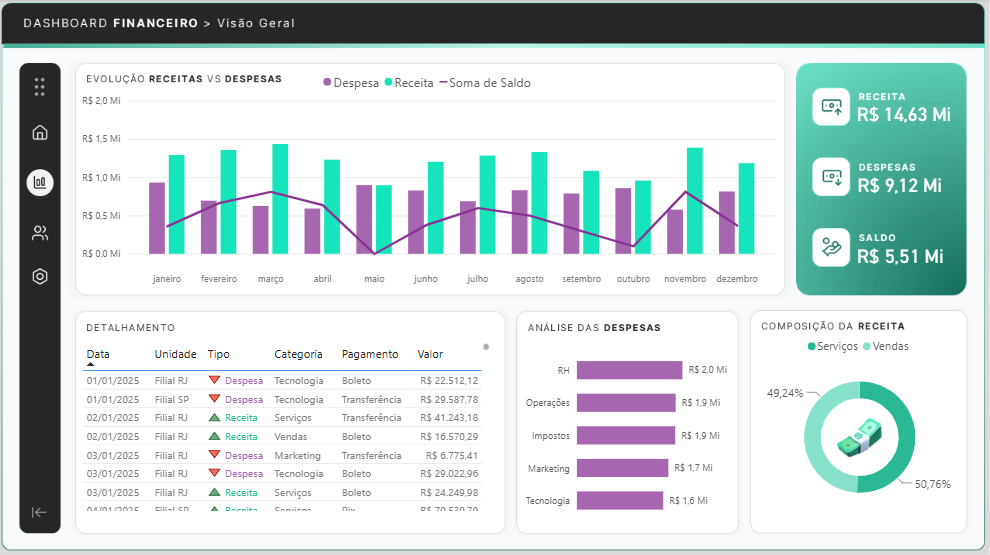

What the dashboard file says about the page in this screenshot:
{"tool":"powerbi","page":{"name":"Página 1","canvas":[1280,720],"ordinal":0},"visuals":[{"type":"lineClusteredColumnComboChart","fields":{"Category":["Extrato.Data.Variation.Hierarquia de datas.Ano","Extrato.Data.Variation.Hierarquia de datas.Trimestre","Extrato.Data.Variation.Hierarquia de datas.Mês","Extrato.Data.Variation.Hierarquia de datas.Dia"],"Y":["Sum(Extrato.Valor)"],"Series":["Extrato.Tipo_Movimentacao"],"Y2":["Sum(Extrato.Saldo)"]},"box":[104.9,85,905.7,293.4],"z":0},{"type":"card","fields":{"Values":["Sum(Extrato.Saldo)"]},"box":[1097,282,137.5,96.4],"z":1000},{"type":"card","fields":{"Values":["Sum(Extrato.Valor)"]},"box":[1097,191,136,98],"z":2000},{"type":"card","fields":{"Values":["Sum(Extrato.Valor)"]},"box":[1097,104,147,87],"z":3000},{"type":"barChart","fields":{"Category":["Extrato.Categoria","Extrato.Subcategoria","Extrato.Fornecedor"],"Y":["Sum(Extrato.Valor)"]},"box":[672.5,437.5,285,245],"z":4000},{"type":"donutChart","fields":{"Y":["Sum(Extrato.Valor)"],"Category":["Extrato.Categoria"]},"box":[982.5,427.5,262.5,245],"z":5000},{"type":"tableEx","fields":{"Values":["Extrato.Data","Extrato.Unidade","Extrato.Tipo_Movimentacao","Extrato.Categoria","Extrato.Forma_Pagamento","Sum(Extrato.Valor)"]},"box":[104.9,438.2,535.8,225.5],"z":6000}]}

Visuals, with their boxes on the page's 1280x720 design canvas (x1, y1, x2, y2). These are canvas units, not pixel positions in the 990x555 screenshot, which may show the page scaled, cropped or inside an application window:
lineClusteredColumnComboChart - Extrato.Data.Variation.Hierarquia de datas.Ano x Extrato.Data.Variation.Hierarquia de datas.Trimestre: [x1=105, y1=85, x2=1011, y2=378]
card - Sum(Extrato.Saldo): [x1=1097, y1=282, x2=1234, y2=378]
card - Sum(Extrato.Valor): [x1=1097, y1=191, x2=1233, y2=289]
card - Sum(Extrato.Valor): [x1=1097, y1=104, x2=1244, y2=191]
barChart - Extrato.Categoria x Extrato.Subcategoria: [x1=672, y1=438, x2=958, y2=682]
donutChart - Sum(Extrato.Valor) x Extrato.Categoria: [x1=982, y1=428, x2=1245, y2=672]
tableEx - Extrato.Data x Extrato.Unidade: [x1=105, y1=438, x2=641, y2=664]
